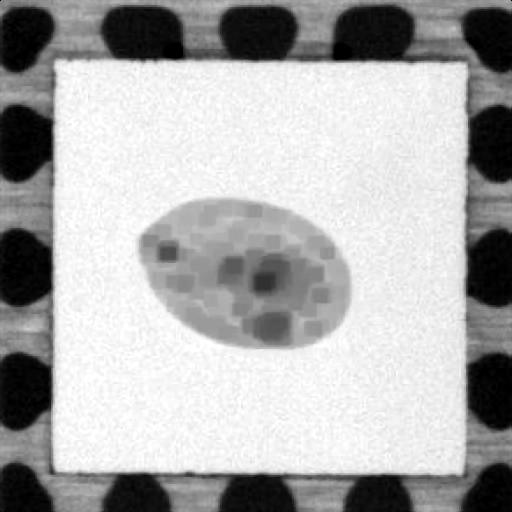DIE_INK: (119, 183, 365, 366)
